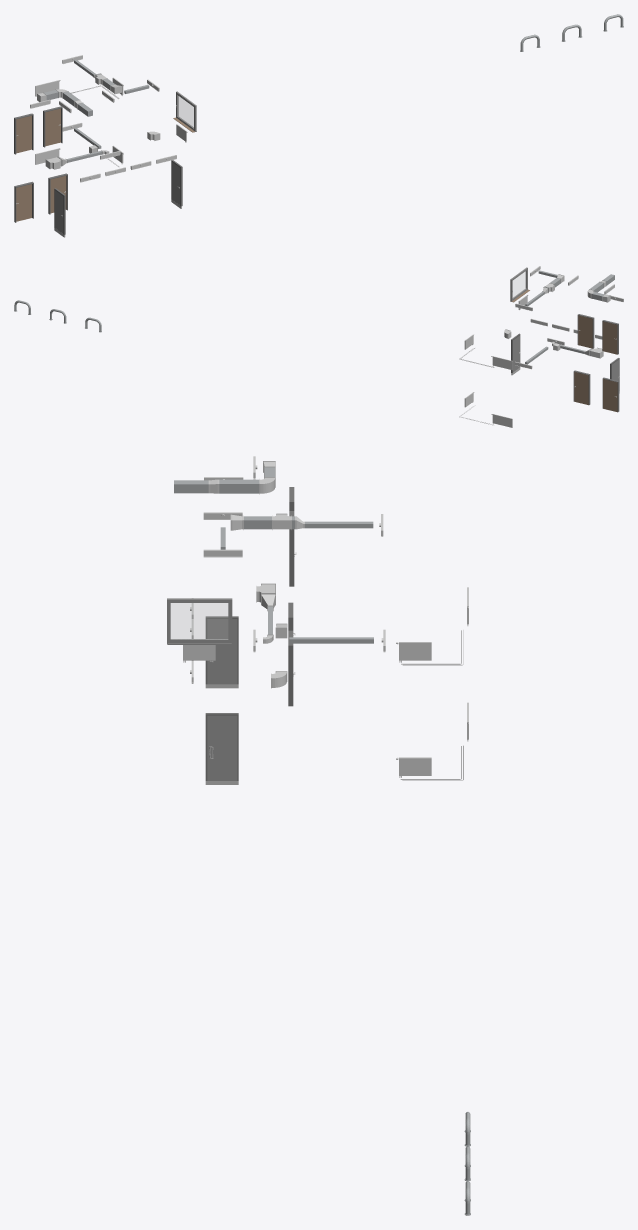
The picture shows the model from 3 angles, top to bottom: view 1: azimuth 30°, elevation 25°; view 2: azimuth 150°, elevation 25°; view 3: azimuth 270°, elevation 25°; orthographic projection. The views are drawn at different scales.
Bounding box in the file's own units: 39.59 × 7.52 × 9.31.
